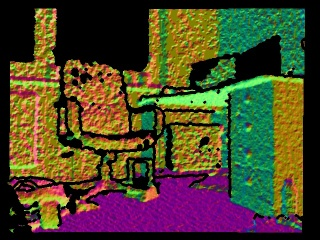station: (124, 157, 159, 202)
